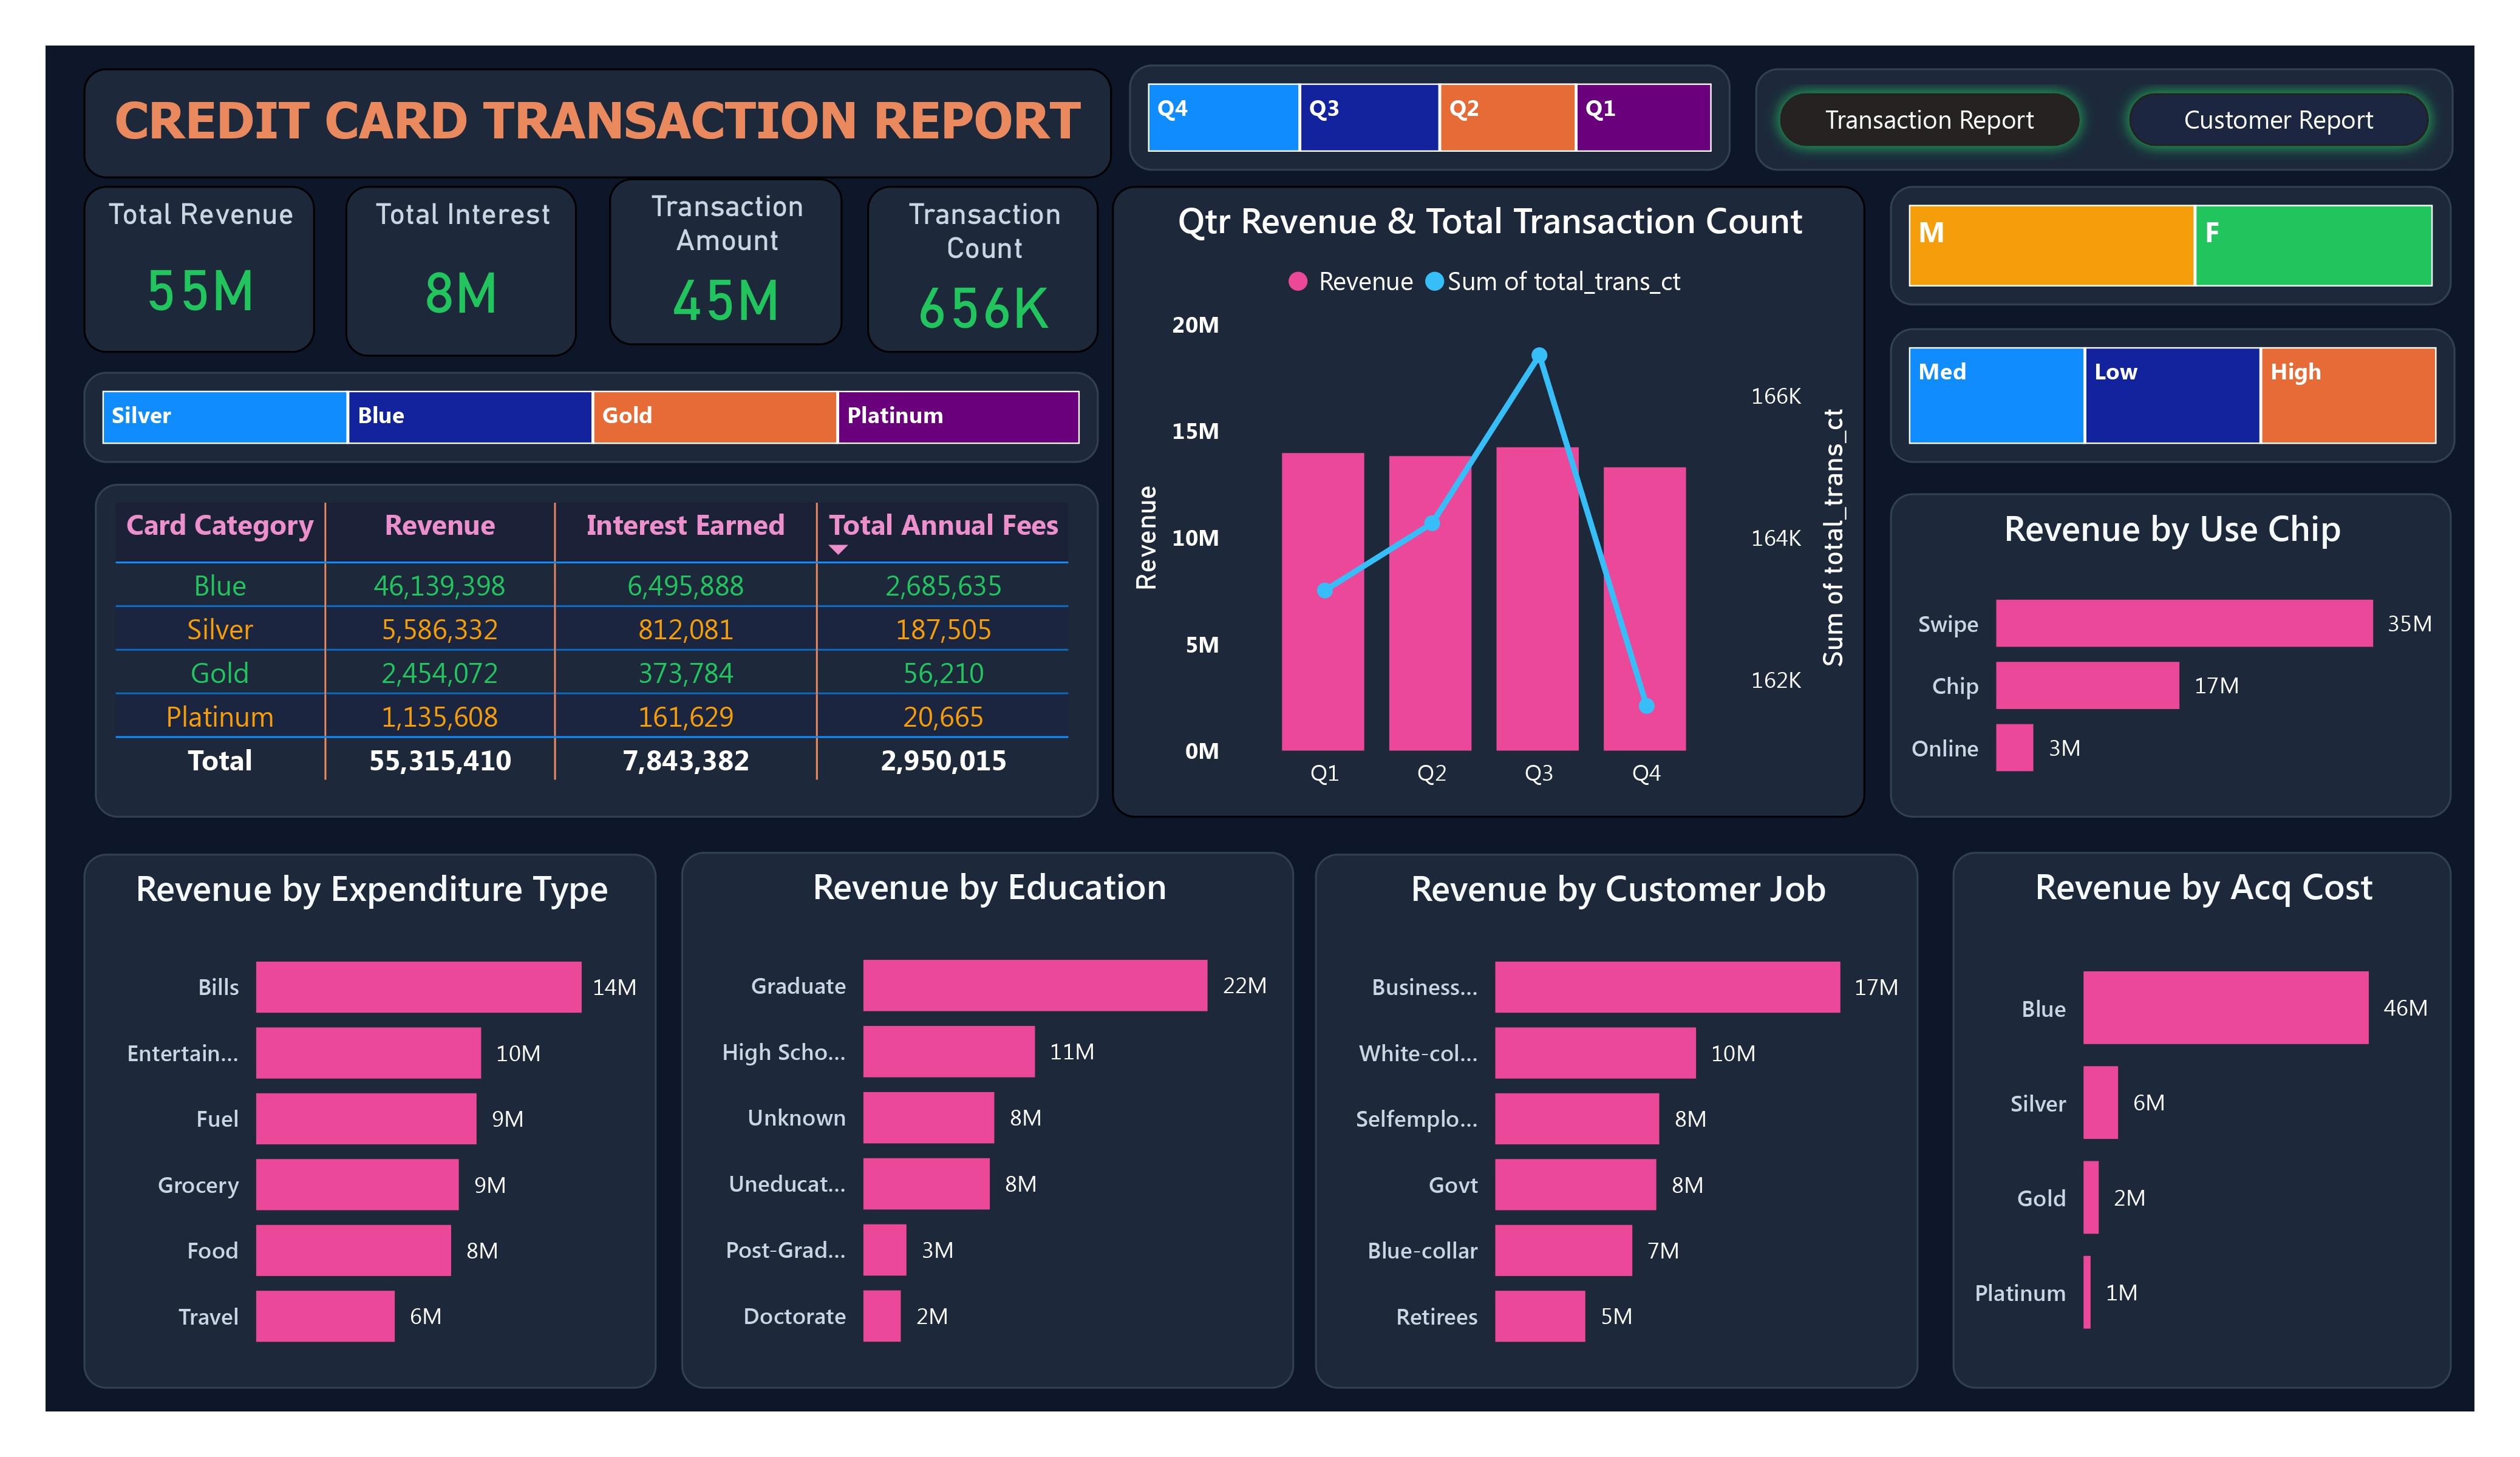

The dashboard page shown, as its layout file describes it:
{"tool":"powerbi","page":{"name":"Transaction Report","canvas":[1280,720],"ordinal":0},"visuals":[{"type":"textbox","box":[20,12.2,542.2,57.8],"z":0},{"type":"lineStackedColumnComboChart","title":" Qtr Revenue &  Total Transaction Count","fields":{"Category":["public cc_detail.qtr"],"Y":["Sum(public cc_detail.Revenue)"],"Y2":["Sum(public cc_detail.total_trans_ct)"]},"box":[562.1,74.1,397.4,332.8],"z":1000},{"type":"barChart","title":" Revenue by Expenditure Type","fields":{"Y":["Sum(public cc_detail.Revenue)"],"Category":["public cc_detail.exp_type"]},"box":[19.6,425.5,302,282.5],"z":2000},{"type":"barChart","title":" Revenue by Education","fields":{"Y":["Sum(public cc_detail.Revenue)"],"Category":["public cust_detail.education_level"]},"box":[335.2,425.4,322.8,282.4],"z":3000},{"type":"barChart","title":" Revenue by Customer Job","fields":{"Y":["Sum(public cc_detail.Revenue)"],"Category":["public cust_detail.customer_job"]},"box":[668.9,425.5,317.9,282.5],"z":4000},{"type":"barChart","title":" Revenue by Acq Cost","fields":{"Y":["Sum(public cc_detail.Revenue)"],"Category":["public cc_detail.card_category"]},"box":[1005.2,425.4,262.7,282.4],"z":5000},{"type":"barChart","title":" Revenue by Use Chip","fields":{"Y":["Sum(public cc_detail.Revenue)"],"Category":["public cc_detail.use_chip"]},"box":[971.5,236.3,296.4,171],"z":6000},{"type":"tableEx","fields":{"Values":["public cc_detail.card_category","Sum(public cc_detail.Revenue)","Sum(public cc_detail.interest_earned)","Sum(public cc_detail.annual_fees)"]},"box":[26.4,230.9,528.2,176.4],"z":7000},{"type":"card","title":"Total Revenue","fields":{"Values":["Sum(public cc_detail.Revenue)"]},"box":[20,73.8,121.5,87.7],"z":8000},{"type":"card","title":"Transaction Amount","fields":{"Values":["Sum(public cc_detail.total_trans_amt)"]},"box":[297.4,69.8,122.4,87.9],"z":9000},{"type":"card","title":"Total Interest","fields":{"Values":["Sum(public cc_detail.interest_earned)"]},"box":[157.8,74.1,122.4,89.7],"z":10000},{"type":"card","title":"Transaction Count","fields":{"Values":["Sum(public cc_detail.total_trans_ct)"]},"box":[432.8,74.1,122.4,87.9],"z":11000},{"type":"treemap","fields":{"Values":["Avg(public cc_detail.client_num)"],"Group":["public cc_detail.card_category"]},"box":[19.8,171.6,535.3,48.3],"z":14000},{"type":"treemap","fields":{"Values":["Avg(public cc_detail.client_num)"],"Group":["public cust_detail.IncomeGroup"]},"box":[971.6,149.1,298.3,70.7],"z":15000},{"type":"treemap","fields":{"Group":["public cc_detail.qtr"],"Values":["Avg(public cc_detail.client_num)"]},"box":[570.7,10.3,317.2,55.2],"z":16001},{"type":"treemap","fields":{"Group":["public cust_detail.gender"],"Values":["Sum(public cc_detail.Revenue)"]},"box":[971.6,74.1,296.6,62.9],"z":16002},{"type":"pageNavigator","box":[901.1,12.2,367.8,53.3],"z":16003}]}

Visuals, with their boxes in screenshot pixels (x1, y1, x2, y2):
textbox: 84:69:1112:178
" Qtr Revenue &  Total Transaction Count" lineStackedColumnComboChart: 1112:186:1866:818
" Revenue by Expenditure Type" barChart: 83:853:656:1389
" Revenue by Education" barChart: 681:852:1294:1388
" Revenue by Customer Job" barChart: 1315:853:1918:1389
" Revenue by Acq Cost" barChart: 1953:852:2451:1388
" Revenue by Use Chip" barChart: 1889:494:2451:818
tableEx - public cc_detail.card_category x Sum(public cc_detail.Revenue): 96:484:1098:818
"Total Revenue" card: 84:186:314:352
"Transaction Amount" card: 610:178:842:345
"Total Interest" card: 345:186:577:356
"Transaction Count" card: 867:186:1099:353
treemap - Avg(public cc_detail.client_num) x public cc_detail.card_category: 83:371:1099:463
treemap - Avg(public cc_detail.client_num) x public cust_detail.IncomeGroup: 1889:328:2455:463
treemap - public cc_detail.qtr x Avg(public cc_detail.client_num): 1128:65:1731:170
treemap - public cust_detail.gender x Sum(public cc_detail.Revenue): 1889:186:2452:305
pageNavigator: 1755:69:2453:170
